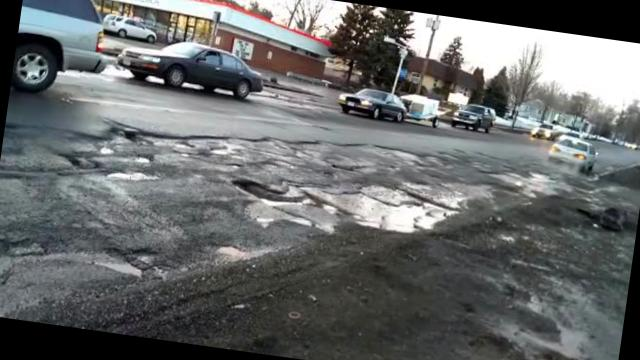pothole: (51, 93, 568, 270), (68, 228, 176, 296), (516, 324, 604, 360)
